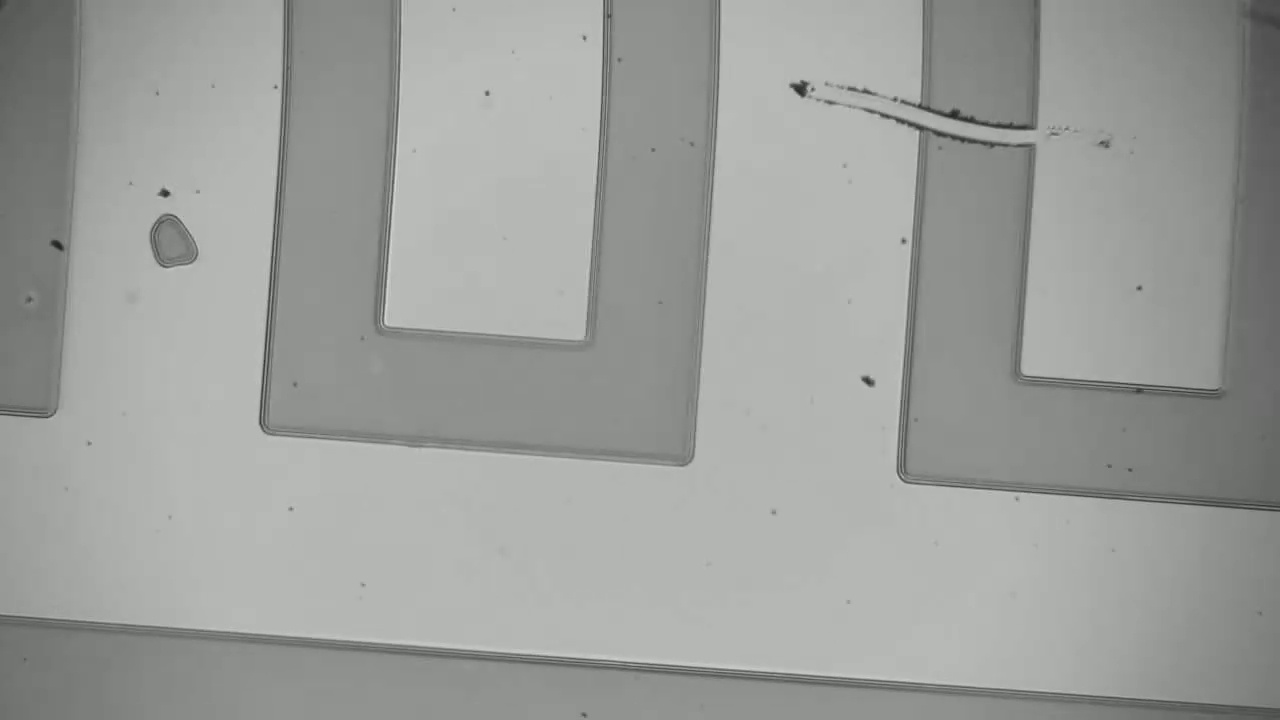Short_circuit: (892, 95, 1064, 162)
